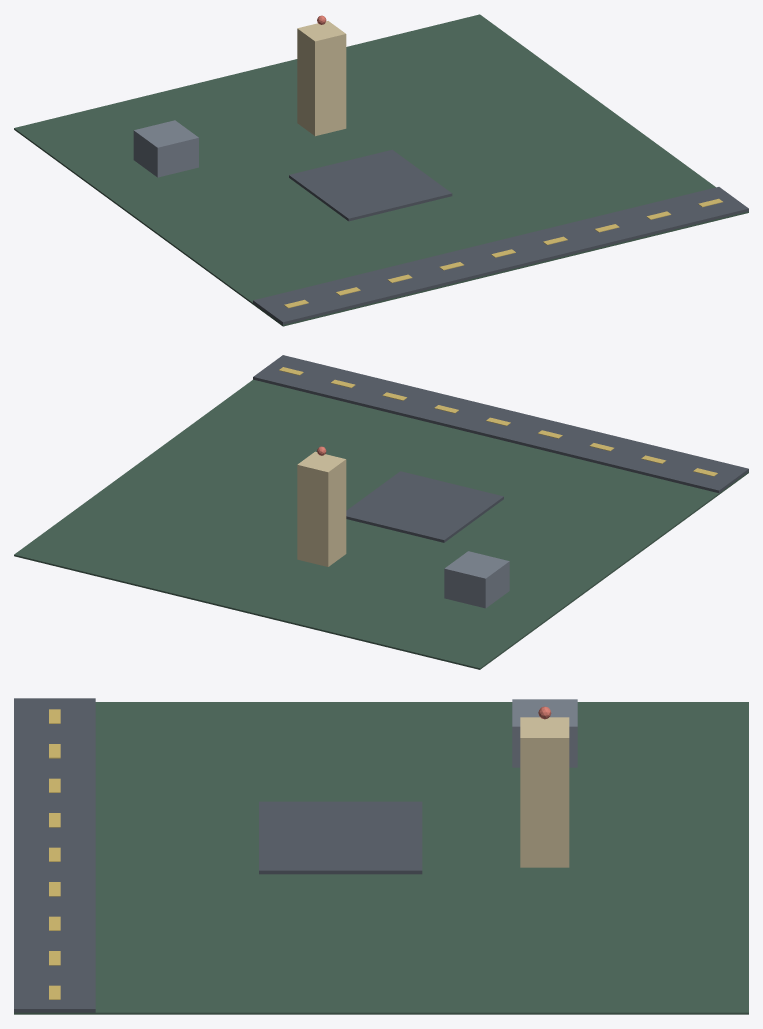
File: stage_03.glb
3 renders of one model, top to bottom at view 1: azimuth 30°, elevation 25°; view 2: azimuth 150°, elevation 25°; view 3: azimuth 270°, elevation 25°, orthographic. The views are drawn at different scales.
Parts seen in each view (by area): view 1: geometry_0; view 2: geometry_0; view 3: geometry_0.
Part boxes in pixels (x1,y1,x2,y2): geometry_0: (14,14,748,326); geometry_0: (14,355,748,669); geometry_0: (14,698,748,1014).
Bounding box in the file's own units: 9 × 2.06 × 9.
